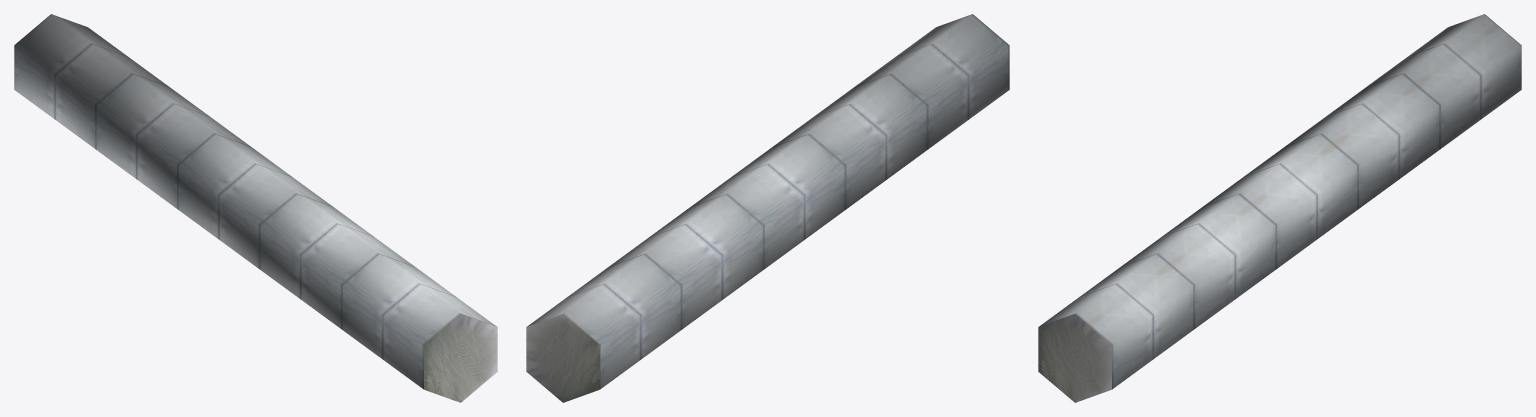
Rendered from hay-bale-plastic-1x10-cbj_LOD02.gltf.
3 views of the same model, side by side, from view 1: azimuth 30°, elevation 25°; view 2: azimuth 150°, elevation 25°; view 3: azimuth 330°, elevation 25° (orthographic).
Visible parts, largest first — view 1: Cube.002; view 2: Cube.002; view 3: Cube.002.
Part boxes in pixels (x1,y1,x2,y2): Cube.002: (14, 14, 497, 402); Cube.002: (526, 14, 1009, 402); Cube.002: (1038, 14, 1521, 402).
Size of what is drawn, in the model's own units: 1.56 by 1.8 by 15.
